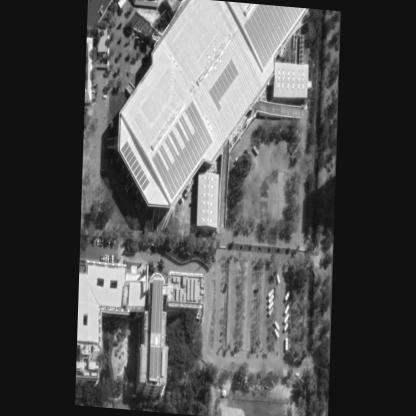solar-pv-panel: (152, 101, 212, 199), (244, 4, 304, 67), (209, 58, 239, 111), (121, 141, 150, 191), (151, 279, 163, 333), (150, 347, 160, 377)
